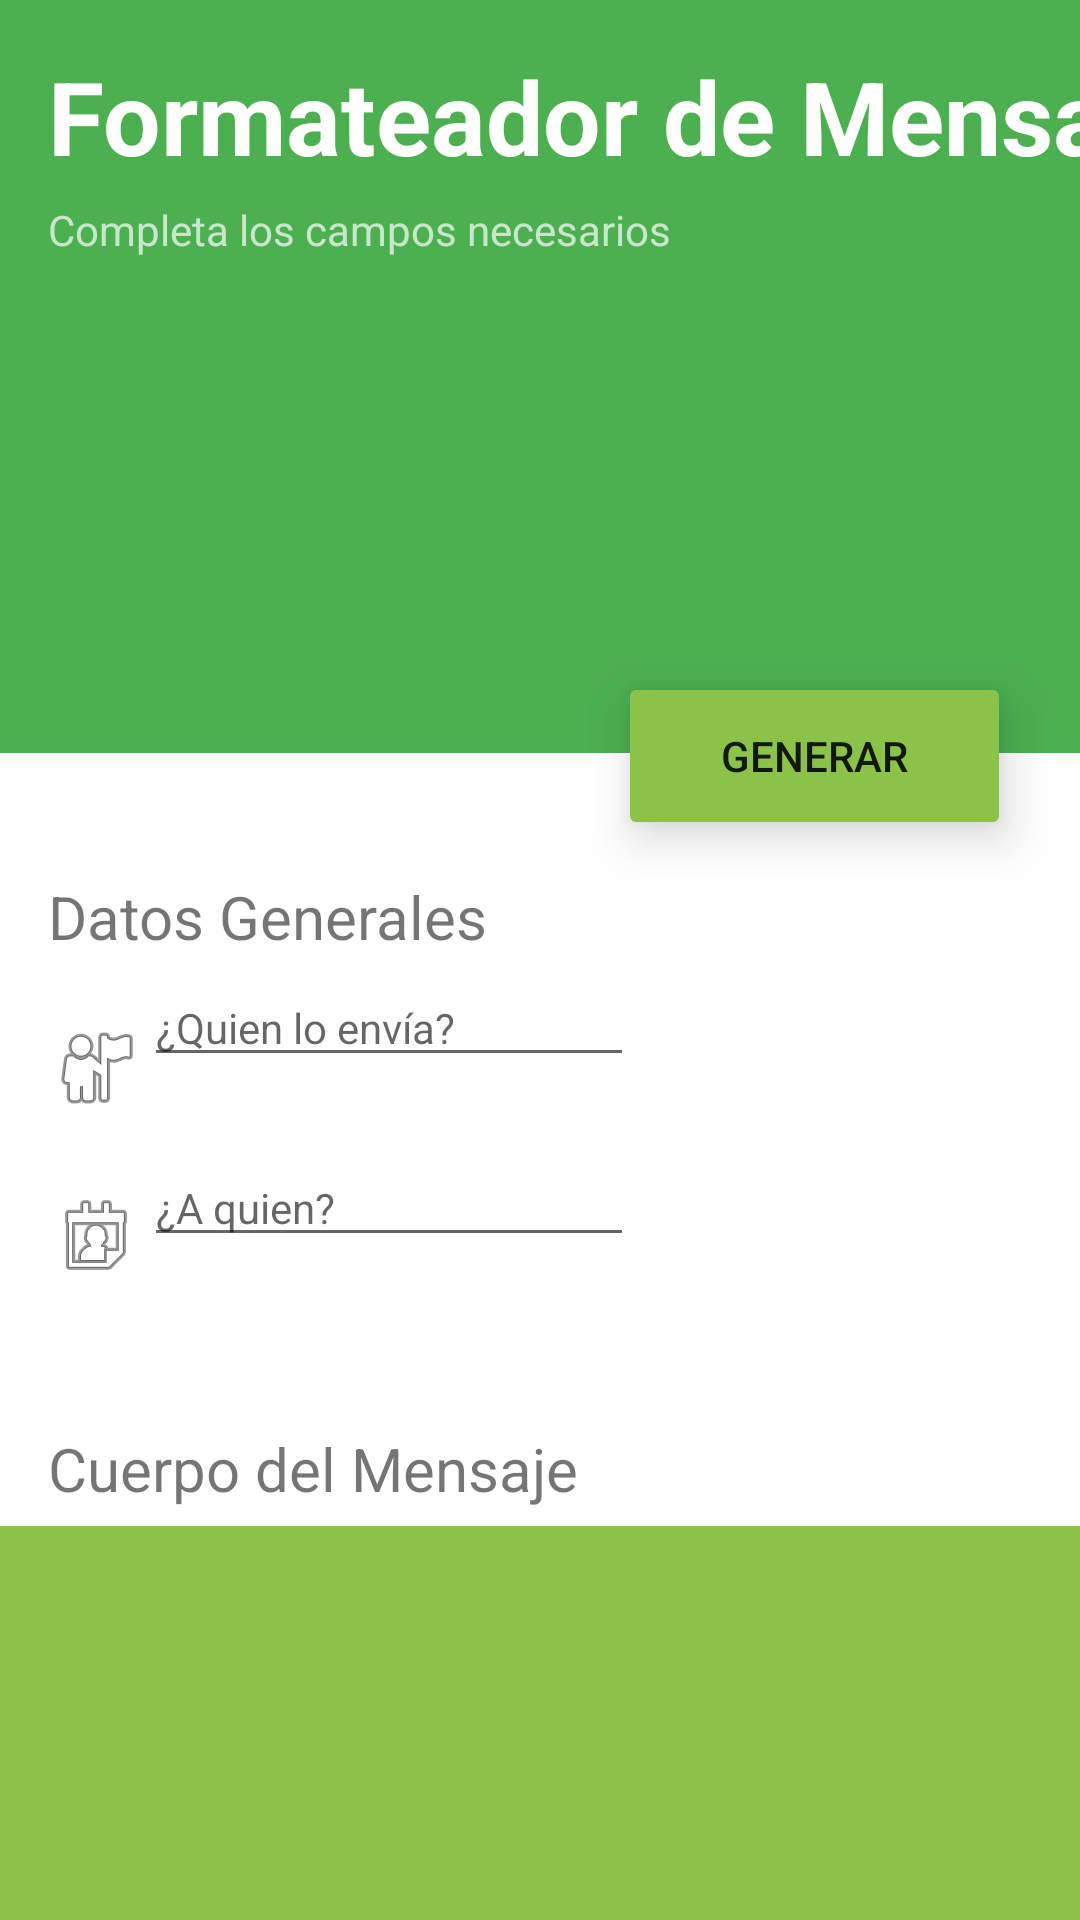

Icon click points for this 1080 x 1920 phone screenshot, format [x,y]:
calendar: [96,1235]
myplaces: [97,1068]
